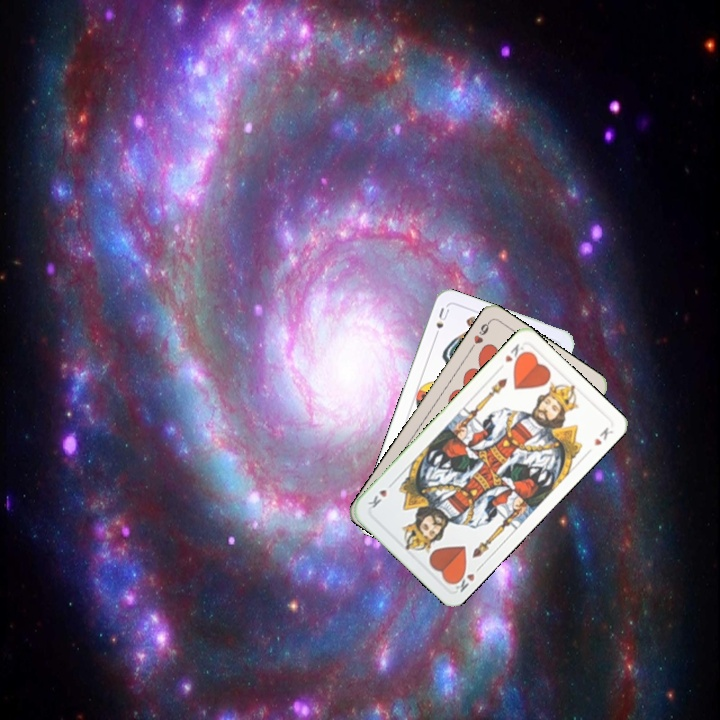H9: (466, 317, 493, 354)
HK: (448, 565, 477, 595), (501, 339, 529, 367)
SU: (430, 303, 452, 342)
